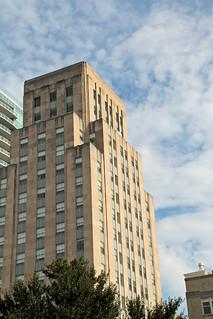building: (2, 57, 170, 319)
